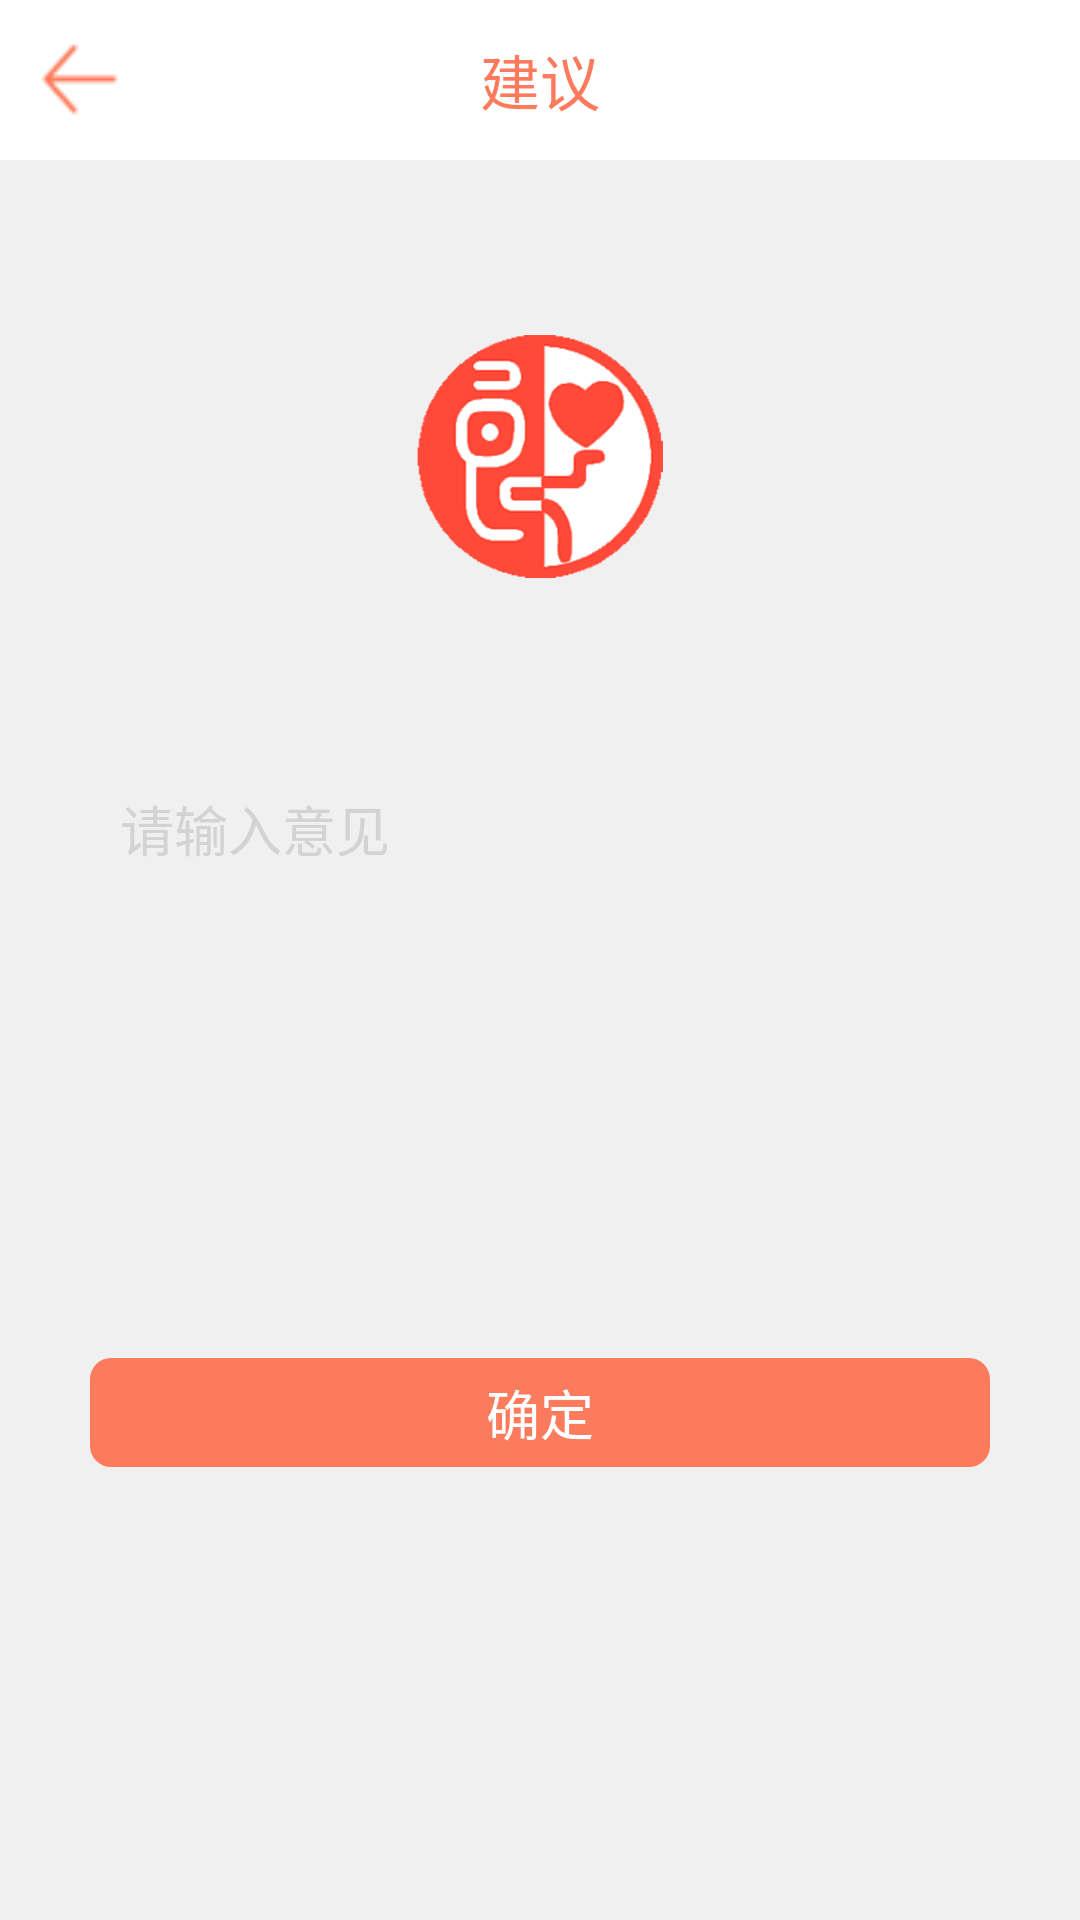

Icon click points for this 1080px×1920px phone screenshot, format (x=x, y=y):
zuo: (x=80, y=79)
